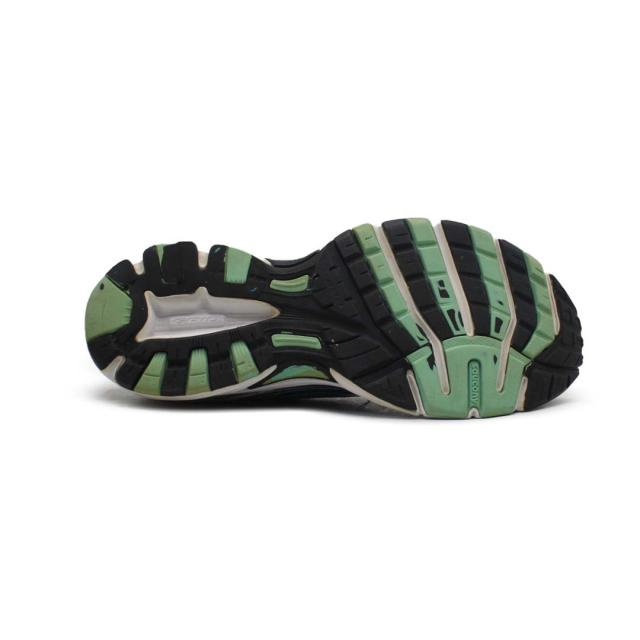outersole: (82, 216, 581, 417)
